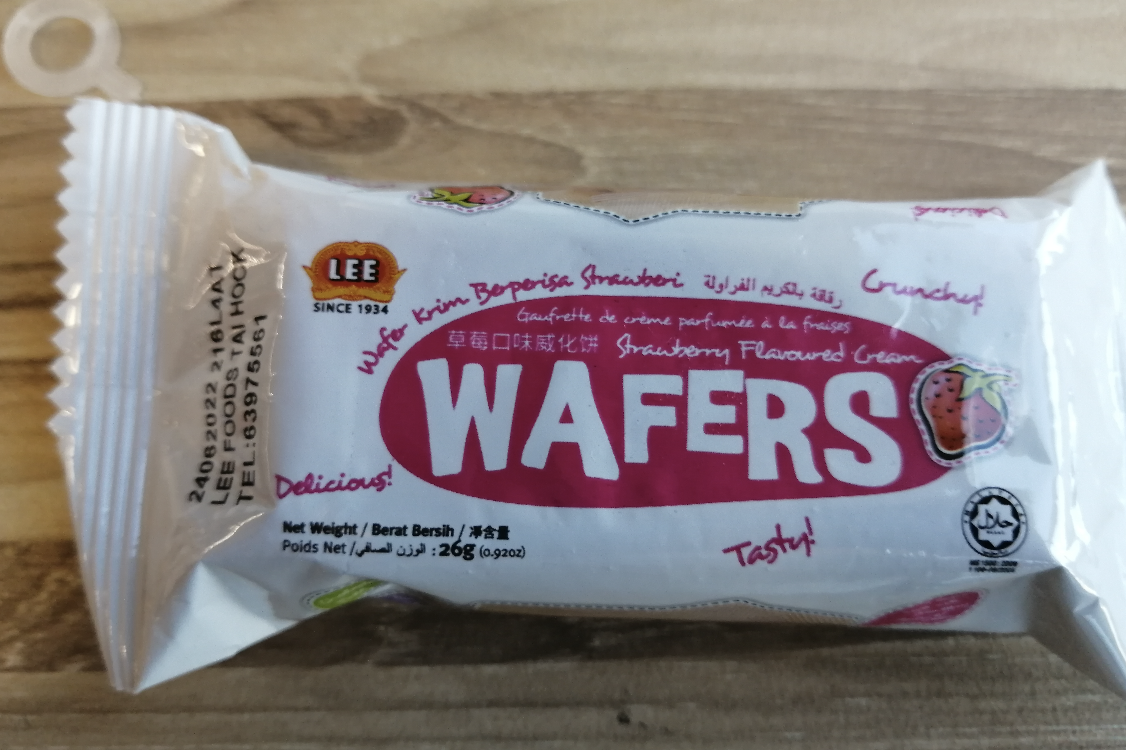Wafers: (106, 202, 1091, 623)
